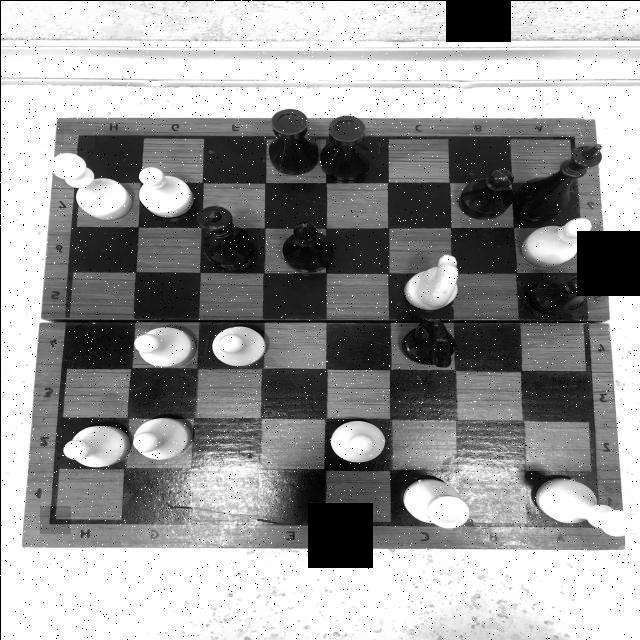chess-table-corners: (39, 505, 70, 533), (63, 125, 94, 148), (552, 127, 582, 148)
